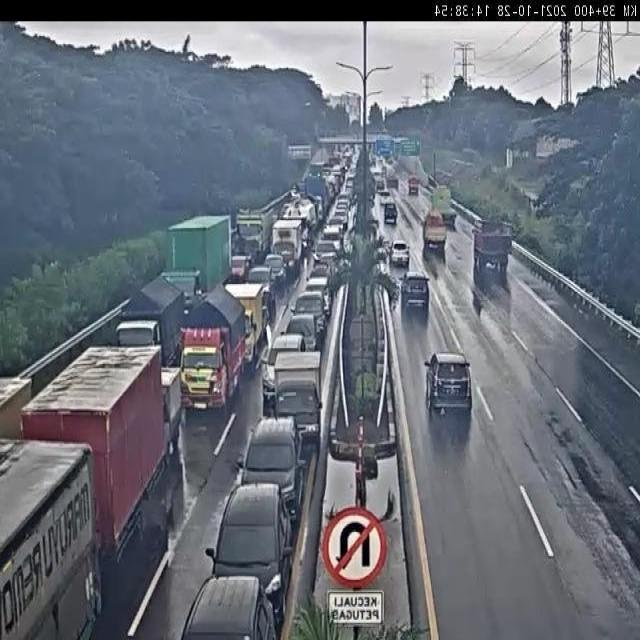Car: (207, 483, 294, 593), (181, 570, 278, 640), (232, 423, 304, 513), (422, 347, 474, 418), (399, 271, 431, 311), (389, 241, 411, 269), (382, 204, 401, 225)
Truck: (21, 343, 163, 563), (0, 437, 93, 640), (178, 289, 245, 417), (116, 279, 181, 357), (164, 217, 232, 290), (272, 351, 322, 445), (471, 219, 515, 278), (269, 218, 303, 266), (429, 186, 460, 227), (423, 206, 448, 255), (408, 176, 425, 196)
